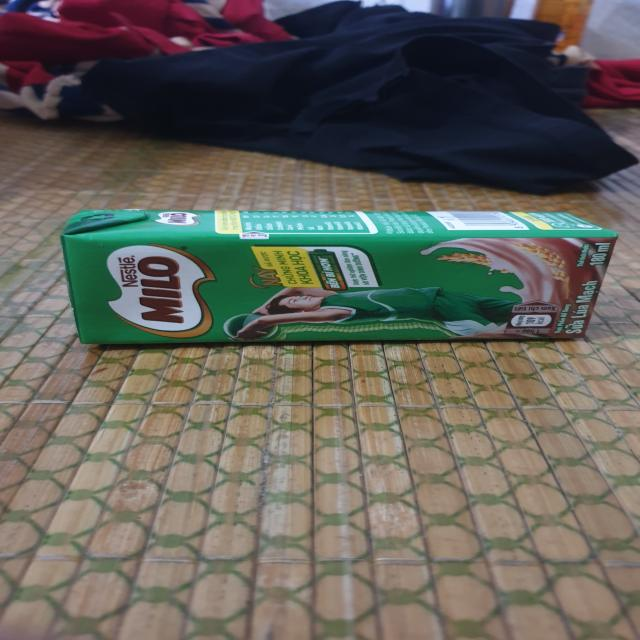Milo: (56, 202, 626, 352)
